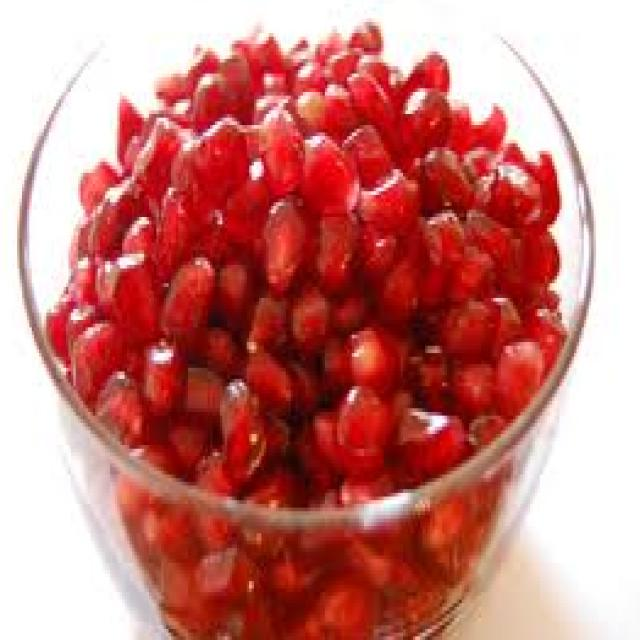pomegranate: (24, 0, 596, 640)
